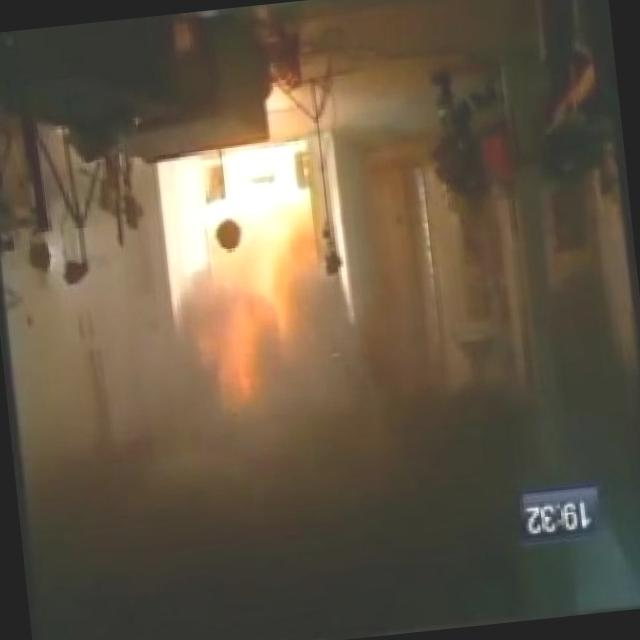fire: (148, 139, 362, 420)
